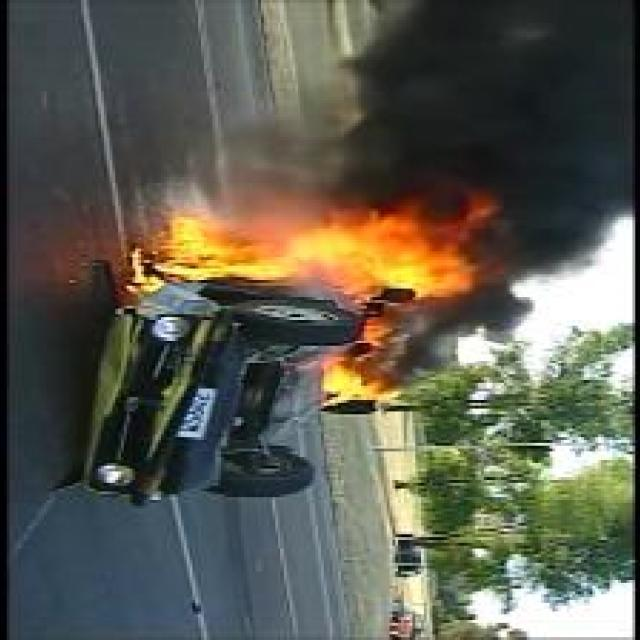Fire: (133, 192, 496, 352), (317, 359, 403, 412)
